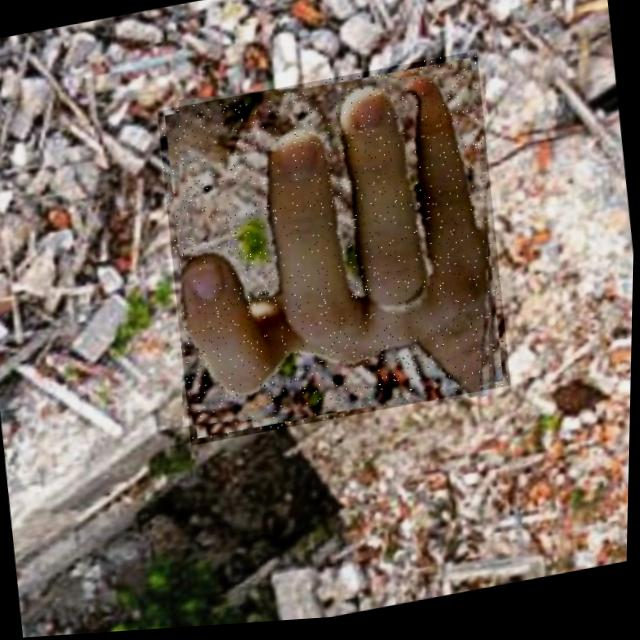Person in Rubble: (152, 54, 518, 450)
